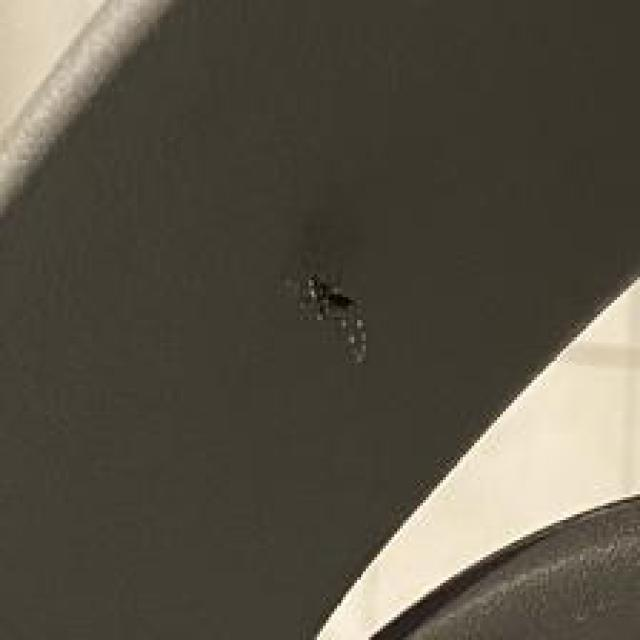Aedes albopictus: (297, 270, 369, 367)
